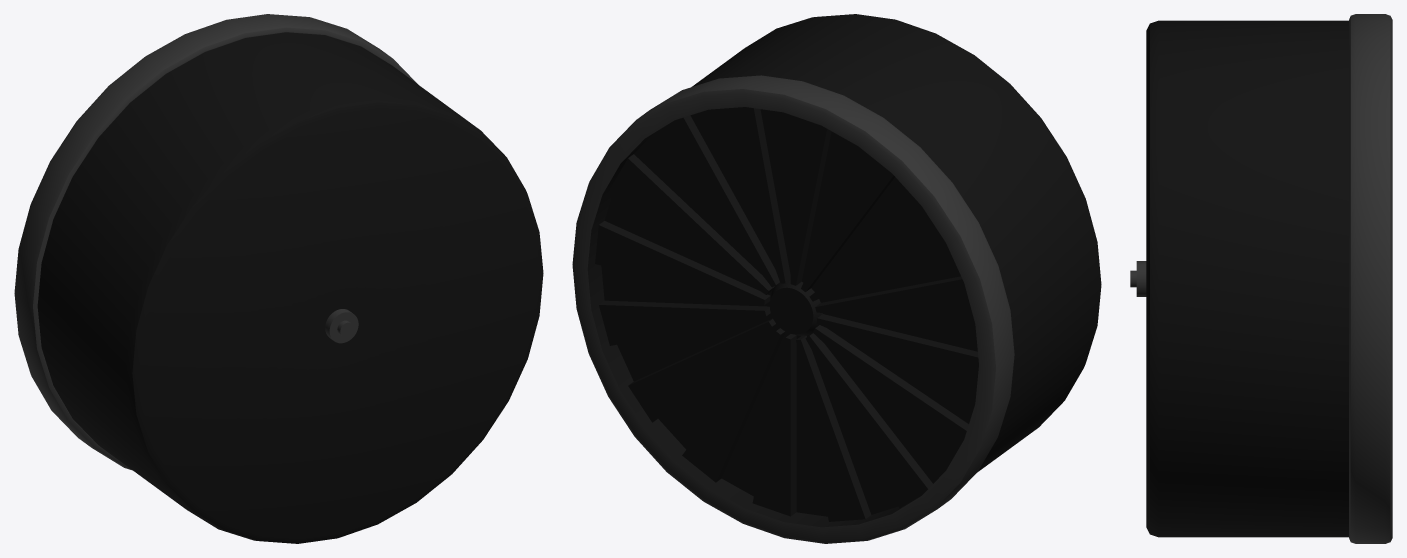
Rendered from mag_5.fbx.
3 renders of one model, left to right at view 1: azimuth 30°, elevation 25°; view 2: azimuth 150°, elevation 25°; view 3: azimuth 270°, elevation 25°, orthographic. The views are drawn at different scales.
Parts seen in each view (by area): view 1: mag_5; view 2: mag_5; view 3: mag_5.
Part boxes in pixels (left/top/right/bottom): mag_5: left=14, top=14, right=543, bottom=543; mag_5: left=572, top=14, right=1101, bottom=543; mag_5: left=1130, top=14, right=1392, bottom=543.
Size of the model in its own units: 837 by 837 by 414.
